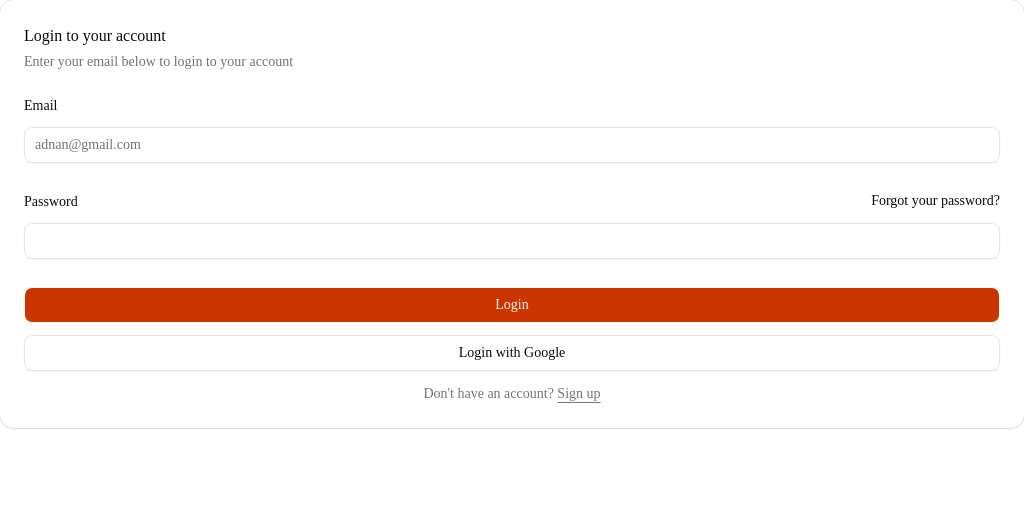
it: Authentication Components › SignInForm › validates email format
Type "invalid-email" into the field labelled "Email".
click(512, 145); type("invalid-email")  # box [24, 127, 1000, 163]
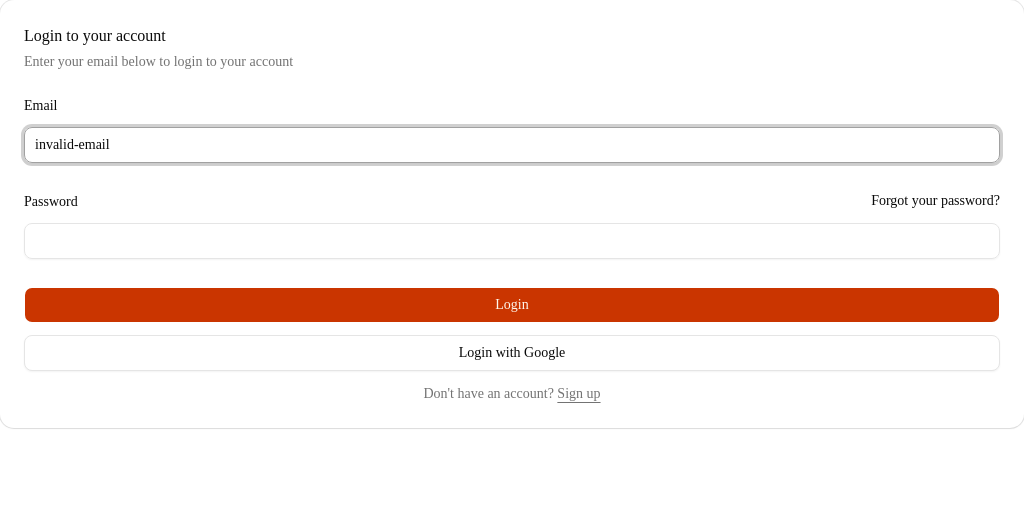
Click the button "Login".
click(512, 305)  # box [24, 287, 1000, 323]
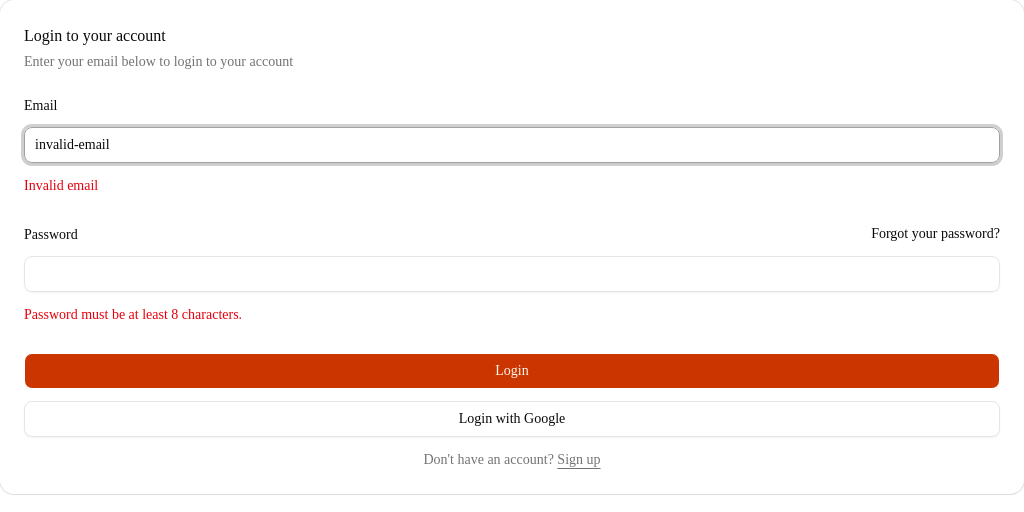
Expected: the text "Invalid email" is shown, [24, 178, 98, 193]
